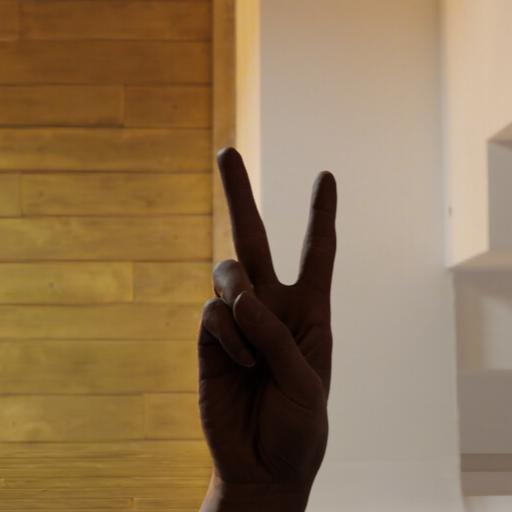V: (193, 143, 342, 490)
